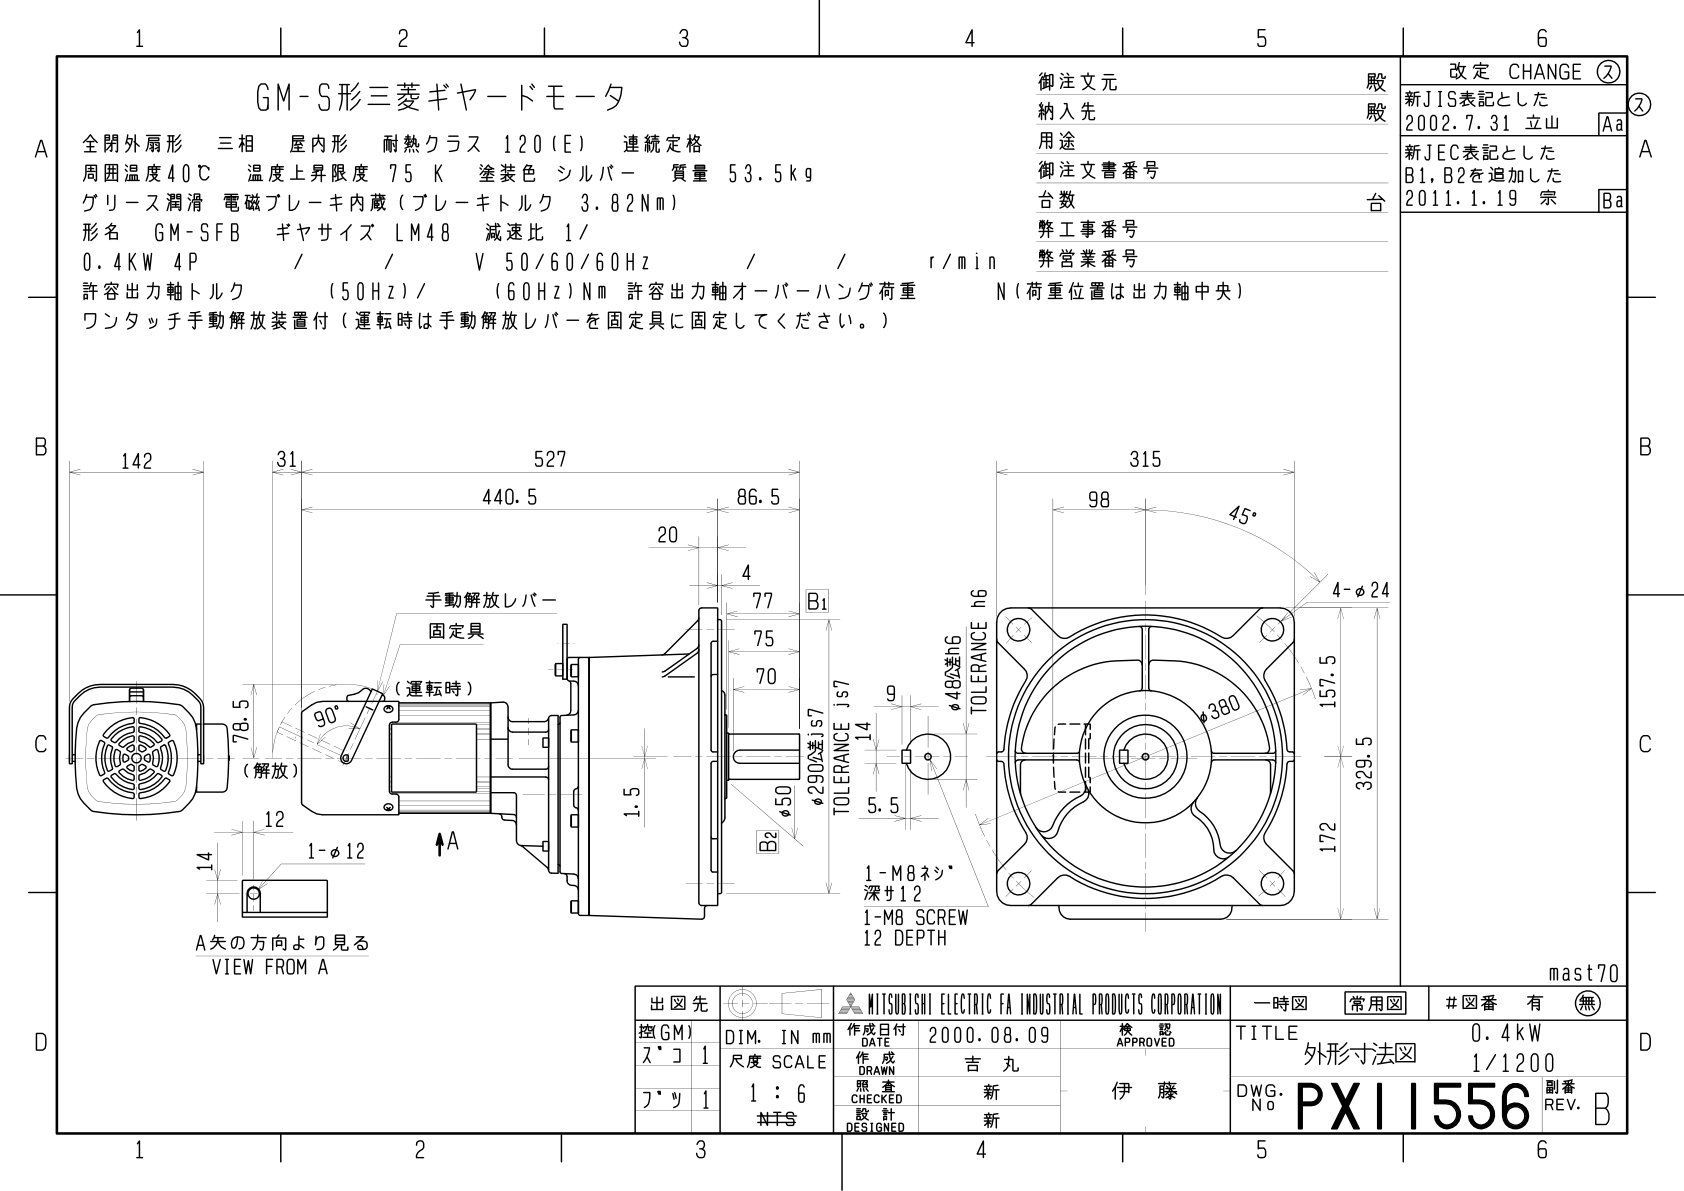GM_S_手動ブレーキ＿三相_フランジ: (6, 6, 1684, 1191)
